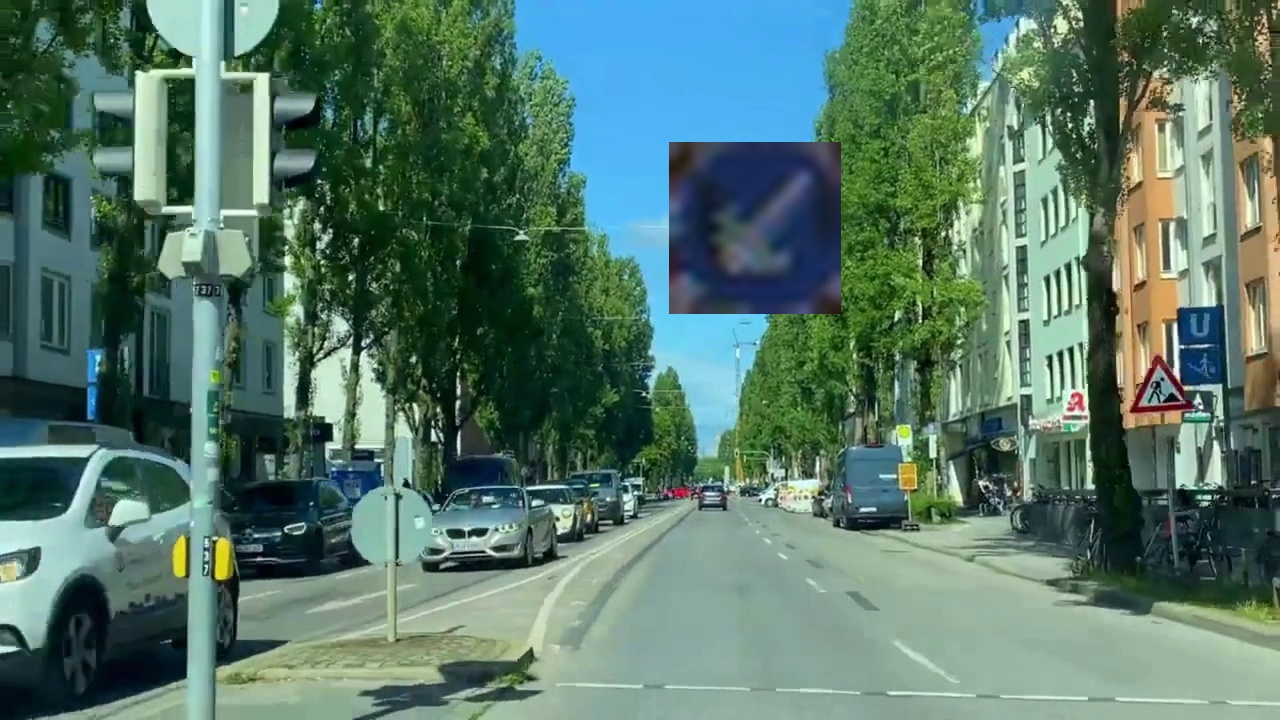Keep left: (669, 142, 841, 314)
